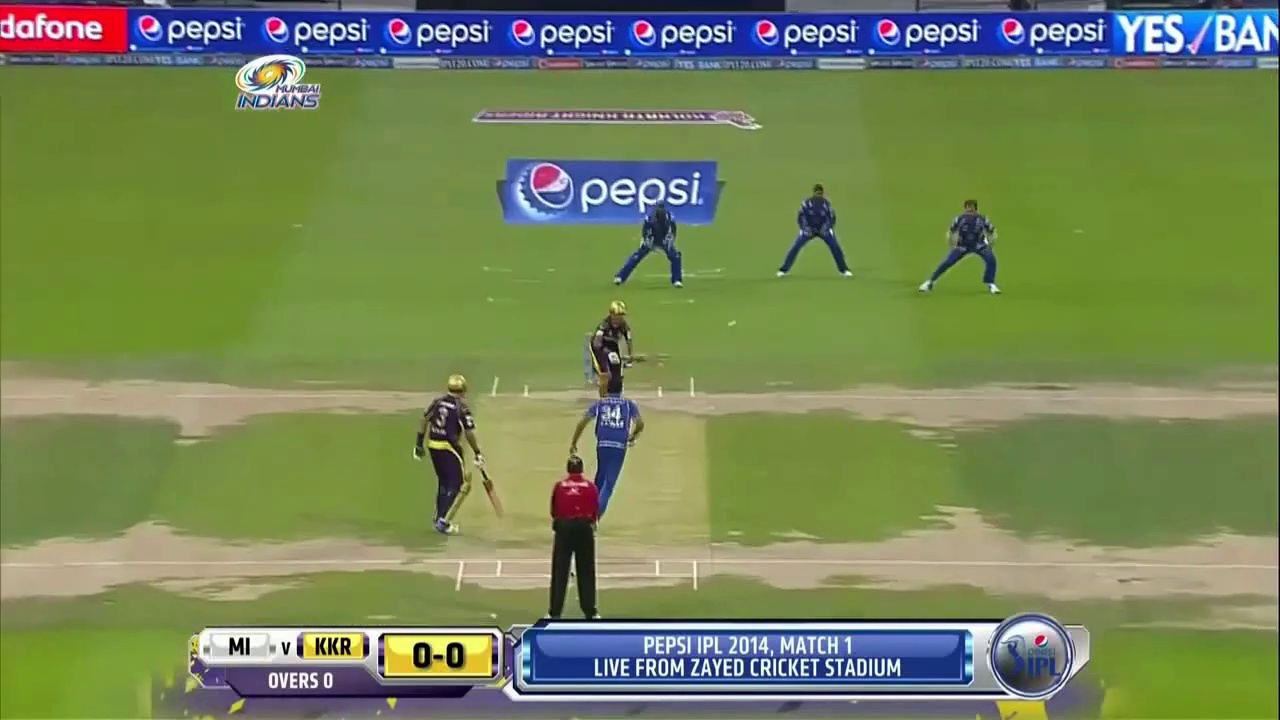bat: (478, 470, 505, 518)
